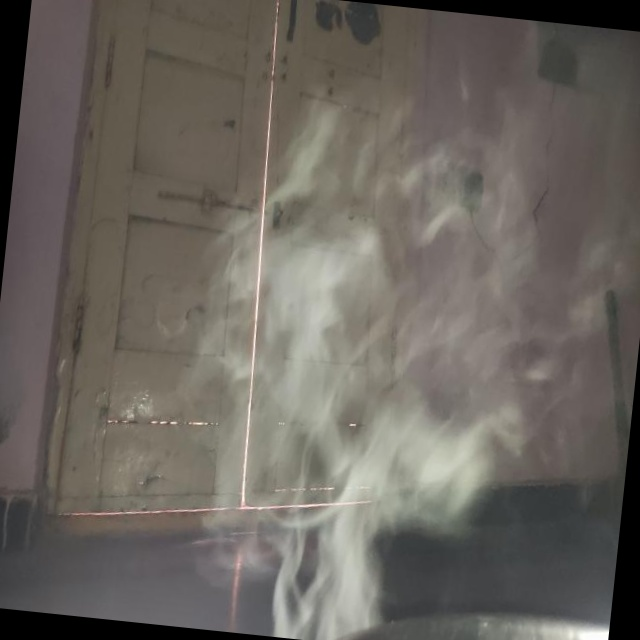smoke: (259, 181, 566, 629)
